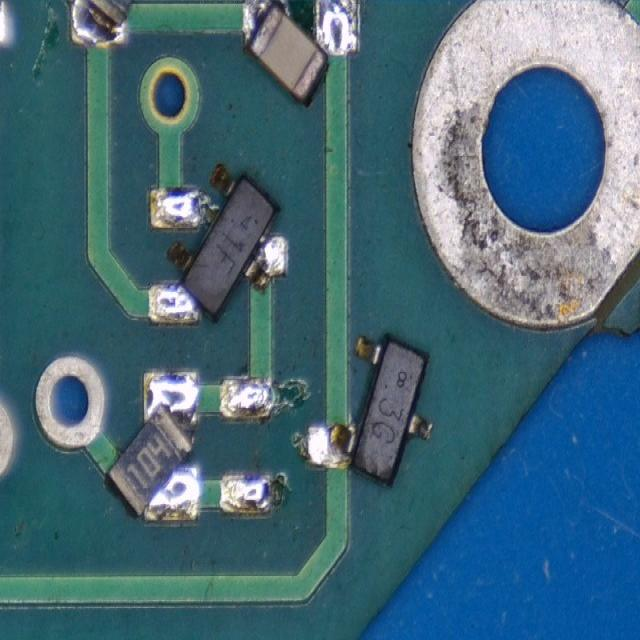Incorrect_installation: (149, 162, 285, 324), (307, 334, 434, 489), (106, 370, 199, 523), (242, 0, 359, 106), (69, 0, 133, 45)
